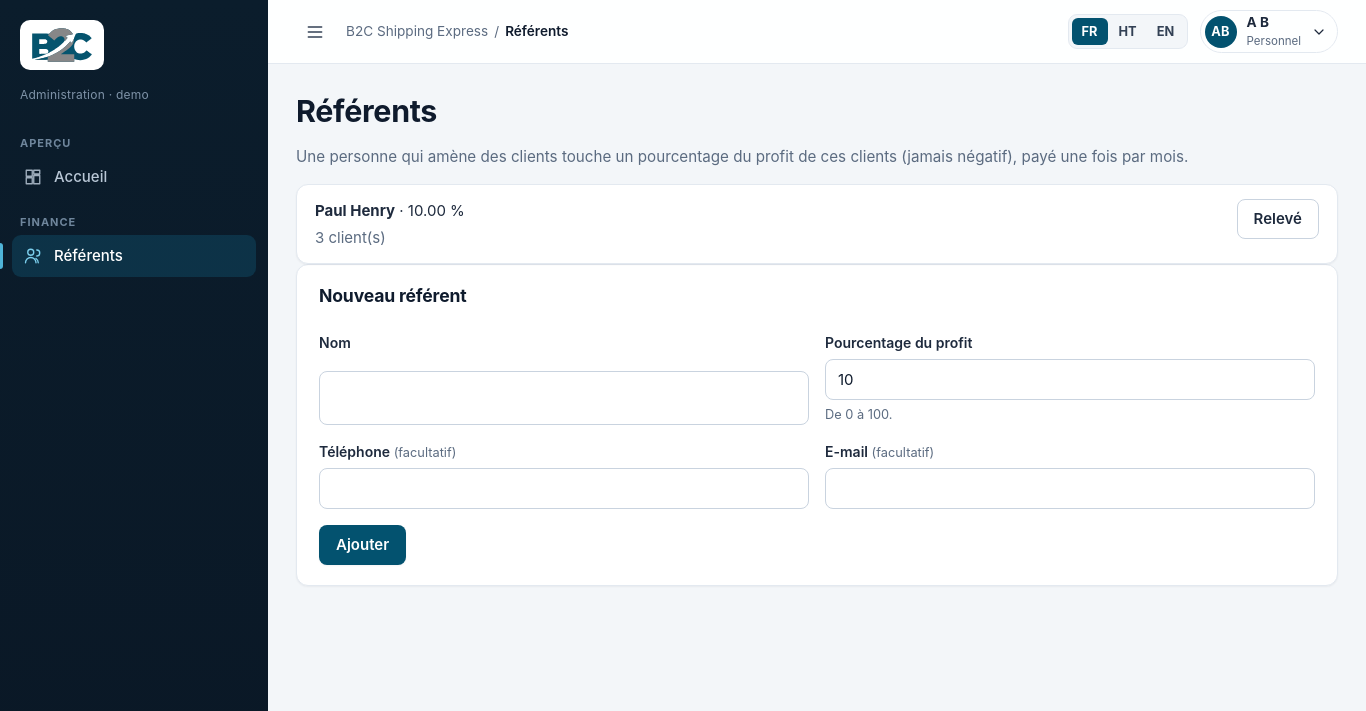
it: référents › relevé du mois puis paiement de la commission, une seule fois
The image size is (1366, 711).
Click the button "Relevé" at [1278, 219], box [1237,199,1319,239]
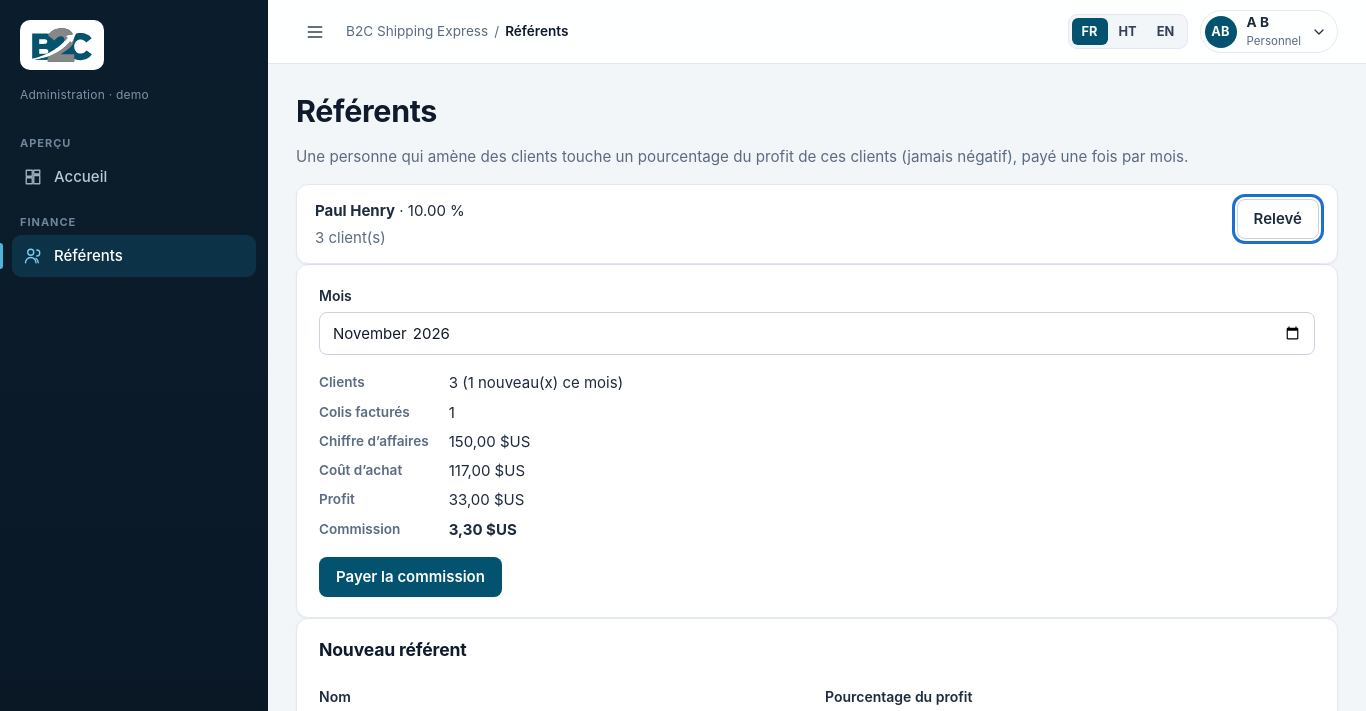
Check: the text with test id "commission" shows "3,30", box [449,520,517,539]
Click the button "Payer la commission" at [410, 577], box [319,557,502,597]
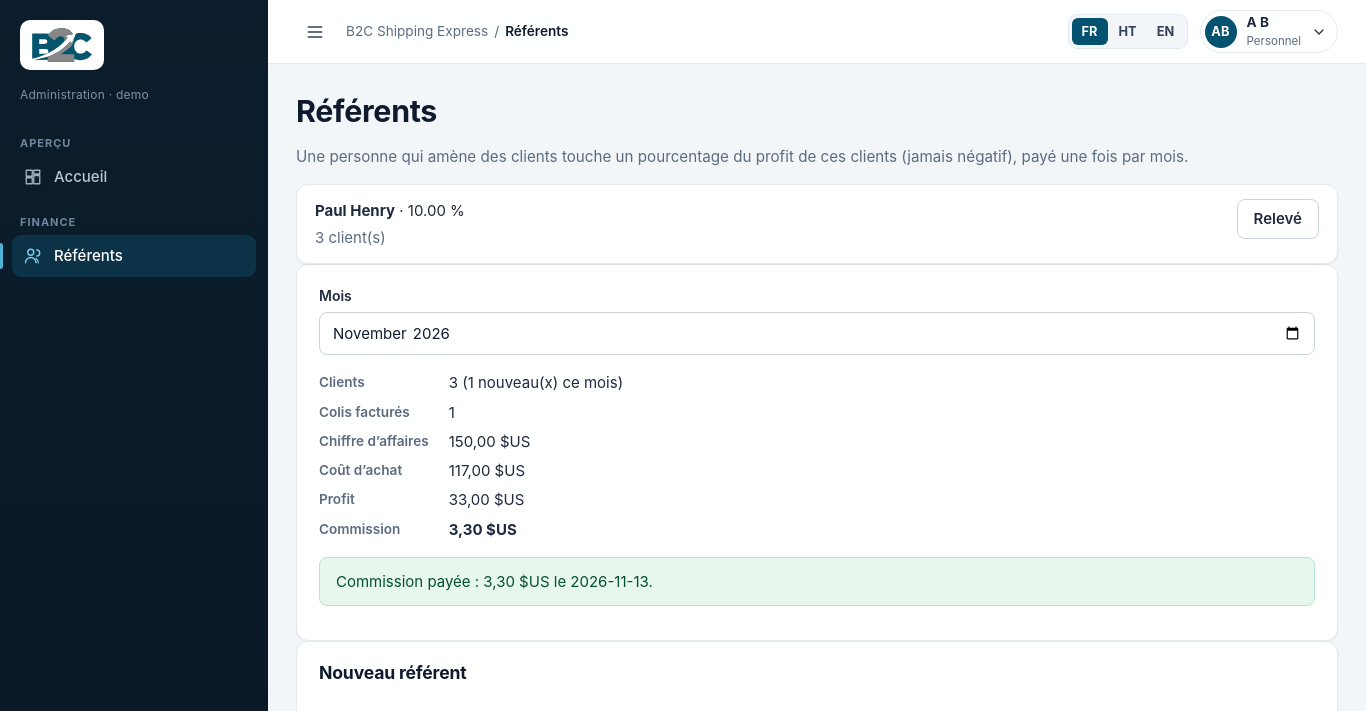
Check: the text "Commission payée : 3,30 $US le 2026-11-13." is shown, box [336,570,653,593]
Check: the button "Payer la commission" is gone
